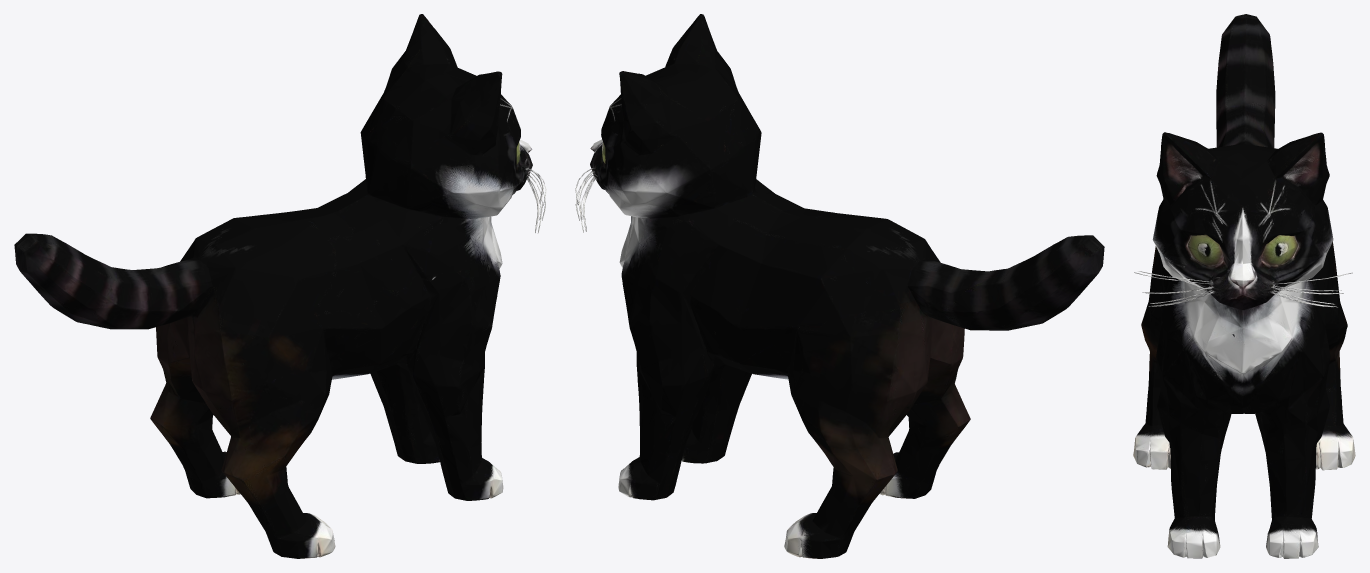
Rendered from RUBYCAT.glb.
3 views of the same model, side by side, from view 1: azimuth 30°, elevation 25°; view 2: azimuth 150°, elevation 25°; view 3: azimuth 270°, elevation 25° (orthographic).
Parts seen in each view (by area): view 1: fit; view 2: fit; view 3: fit.
Boxes of the visible parts, x1=… form: fit: x1=14, y1=14, x2=546, y2=558; fit: x1=575, y1=14, x2=1104, y2=558; fit: x1=1133, y1=14, x2=1355, y2=558.
Size of the model in its own units: 1.25 by 0.9998 by 0.4791.
1 material, 1 textured.
